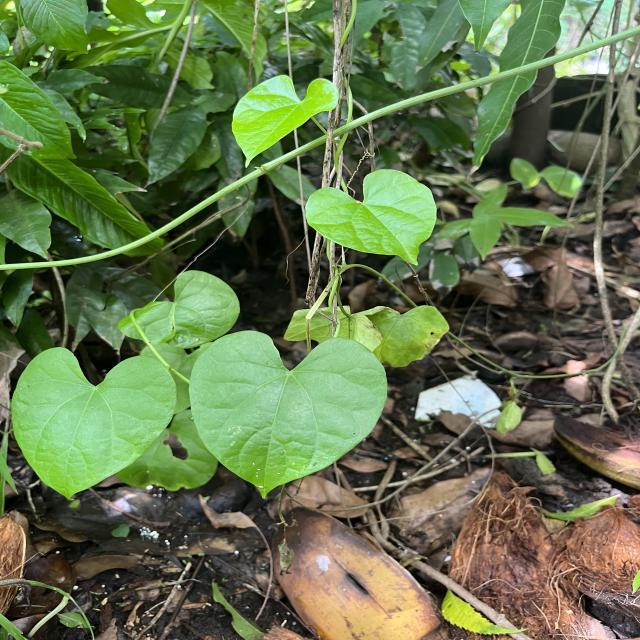Tinospora cordifolia: (186, 327, 390, 502), (8, 344, 180, 502), (303, 166, 438, 268), (228, 72, 342, 170)
